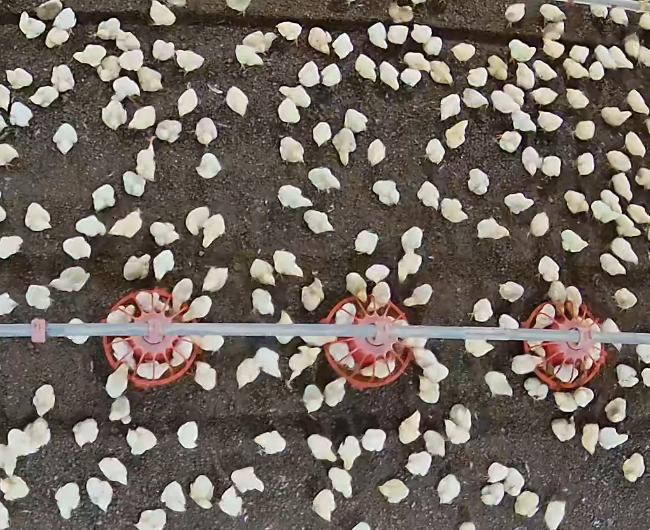chick: (287, 344, 321, 386), (108, 209, 143, 240), (50, 266, 90, 292), (54, 481, 81, 519), (332, 129, 358, 168), (87, 476, 115, 512), (22, 418, 51, 452), (179, 294, 213, 323), (30, 382, 57, 418), (111, 334, 138, 370), (475, 215, 511, 242), (273, 249, 304, 280), (231, 466, 265, 494), (133, 290, 171, 315), (136, 136, 157, 181), (103, 362, 130, 397), (98, 456, 128, 487), (127, 427, 158, 457), (24, 201, 53, 233), (100, 98, 127, 132), (253, 429, 287, 456), (255, 346, 282, 380), (273, 308, 297, 346), (277, 184, 313, 209), (305, 167, 341, 192), (173, 48, 204, 77), (0, 474, 32, 502), (305, 433, 337, 461), (312, 488, 339, 521), (189, 473, 213, 510), (358, 356, 395, 380), (169, 277, 194, 312), (235, 44, 264, 74), (378, 478, 409, 506), (485, 369, 513, 400), (9, 427, 36, 459), (338, 434, 362, 470), (303, 208, 335, 235), (396, 253, 423, 285), (322, 375, 348, 408), (241, 31, 278, 54), (236, 355, 261, 389), (278, 136, 307, 165), (277, 84, 312, 108), (72, 418, 100, 448), (202, 264, 230, 294), (328, 340, 355, 371), (612, 236, 639, 267), (109, 75, 141, 101), (62, 236, 94, 262), (53, 122, 78, 155), (416, 179, 441, 212), (301, 276, 325, 310), (136, 66, 165, 94), (249, 258, 277, 287), (414, 376, 443, 404), (127, 105, 157, 132), (150, 220, 181, 246), (328, 467, 354, 498), (132, 507, 167, 530), (399, 410, 422, 445), (75, 214, 107, 239), (202, 214, 226, 247), (123, 254, 151, 282), (373, 180, 401, 208), (19, 10, 46, 39), (443, 119, 470, 148), (152, 249, 175, 283), (378, 58, 400, 93), (194, 359, 217, 392), (25, 284, 53, 311), (443, 417, 470, 445), (306, 27, 332, 56), (542, 499, 567, 529), (185, 205, 209, 236), (504, 191, 535, 215), (28, 85, 60, 108), (623, 451, 646, 483), (402, 283, 434, 306), (148, 0, 175, 27), (405, 450, 432, 477), (117, 47, 145, 73), (440, 198, 468, 224), (136, 357, 169, 379), (91, 184, 116, 213), (449, 402, 474, 431), (295, 59, 319, 89), (195, 118, 219, 148), (161, 481, 185, 511), (301, 384, 325, 414), (423, 429, 447, 459), (610, 171, 634, 201), (354, 54, 377, 85), (438, 473, 461, 504), (599, 427, 630, 450), (220, 485, 242, 517), (103, 303, 135, 325), (64, 317, 89, 345), (353, 228, 378, 256), (535, 256, 560, 284), (3, 66, 32, 90), (491, 90, 520, 114), (560, 229, 589, 253), (0, 444, 21, 477), (463, 339, 496, 360), (227, 86, 250, 116), (109, 396, 132, 426), (251, 287, 274, 317), (547, 280, 566, 316), (193, 332, 224, 354), (368, 281, 390, 312), (513, 490, 539, 516), (8, 102, 35, 127), (94, 17, 121, 42), (342, 107, 369, 132), (551, 416, 576, 443), (531, 57, 558, 82), (564, 189, 589, 216), (605, 148, 632, 173), (156, 119, 184, 143), (344, 273, 368, 301), (535, 109, 563, 133), (274, 21, 303, 44), (277, 97, 300, 126), (401, 225, 424, 254), (423, 137, 446, 166), (507, 39, 536, 62), (467, 168, 490, 197), (177, 88, 199, 118), (503, 467, 525, 497), (74, 45, 105, 66), (151, 38, 177, 63), (362, 428, 387, 454), (479, 481, 505, 506), (612, 287, 638, 312), (615, 213, 641, 238), (624, 89, 650, 114), (468, 299, 495, 323), (623, 131, 647, 158), (429, 59, 452, 87), (510, 110, 538, 133), (603, 319, 623, 351), (53, 63, 75, 92), (331, 31, 353, 60), (367, 21, 389, 50), (599, 254, 628, 276), (172, 336, 193, 366), (601, 105, 631, 126), (52, 8, 76, 34), (98, 55, 121, 82), (438, 94, 461, 121), (486, 53, 509, 80), (498, 280, 525, 303), (522, 377, 549, 400), (592, 201, 619, 224), (583, 315, 603, 346), (387, 2, 415, 24), (177, 422, 199, 450), (35, 0, 64, 21), (421, 362, 450, 383), (196, 153, 220, 178), (497, 130, 522, 154), (580, 344, 603, 370), (605, 398, 628, 424), (601, 189, 624, 215), (462, 87, 489, 109), (528, 211, 550, 238), (0, 235, 24, 259), (123, 172, 147, 196), (301, 333, 337, 349), (540, 36, 566, 58), (405, 52, 432, 73), (367, 138, 387, 166), (513, 353, 541, 373), (615, 364, 639, 387), (538, 3, 567, 22), (45, 27, 70, 49), (334, 303, 356, 328), (565, 87, 590, 109), (115, 30, 141, 51), (0, 143, 21, 169), (321, 62, 342, 88), (505, 2, 526, 28), (596, 44, 617, 70), (571, 121, 597, 142), (515, 61, 535, 88), (531, 86, 558, 106), (522, 146, 540, 176), (565, 58, 588, 81), (450, 42, 474, 64), (610, 46, 634, 68), (414, 348, 439, 369), (583, 423, 598, 458), (533, 303, 554, 328), (1, 293, 21, 319), (312, 121, 332, 147), (540, 21, 567, 40), (565, 287, 581, 319), (410, 22, 434, 43), (366, 263, 390, 284), (553, 362, 578, 382), (400, 332, 429, 349), (387, 24, 409, 46), (400, 68, 423, 89), (466, 66, 489, 87), (577, 151, 595, 177), (553, 390, 575, 411), (505, 83, 525, 106), (627, 204, 650, 224), (606, 8, 631, 26), (624, 31, 640, 59), (488, 461, 508, 483), (540, 157, 562, 177), (527, 337, 548, 357), (568, 44, 588, 62), (574, 388, 594, 406), (588, 60, 605, 81), (589, 2, 609, 19), (636, 341, 650, 365), (425, 37, 443, 55), (1, 85, 11, 112), (639, 368, 650, 387)
rice: (102, 288, 201, 390), (323, 297, 413, 390), (519, 300, 607, 392)
